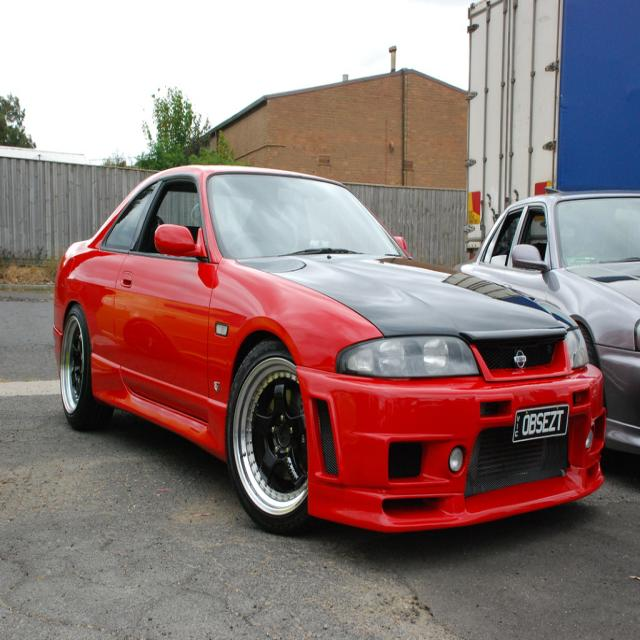car: (50, 162, 606, 535)
